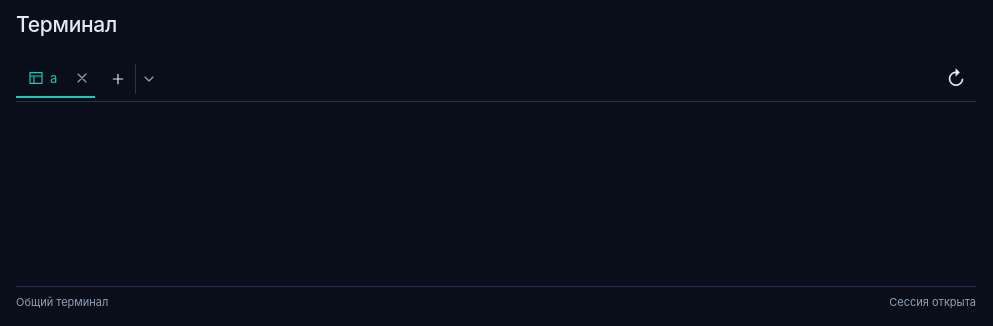
Test case: closes the last tab without re-showing or reopening its exited session
The image size is (993, 326).
What coordinates should you click on to do the following:
click the button named "Закрыть терминал a"
I would click on:
 (82, 78)
Its box is x1=69 y1=60 x2=95 y2=96.
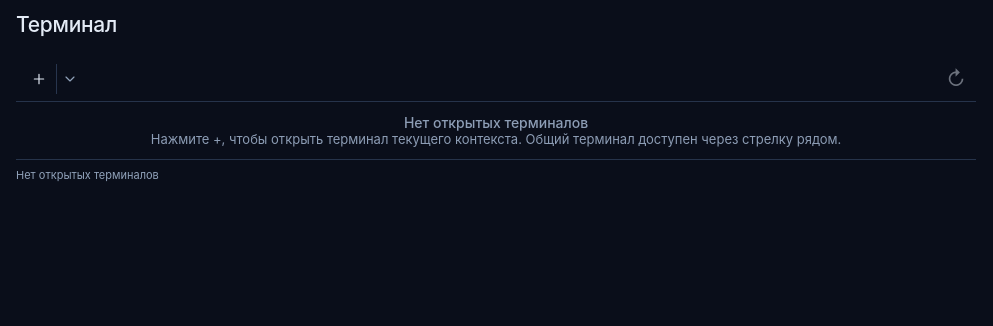
Expected: the heading "Нет открытых терминалов" is shown, x1=404 y1=114 x2=588 y2=131
Expected: the message "Сессия открыта" is gone
